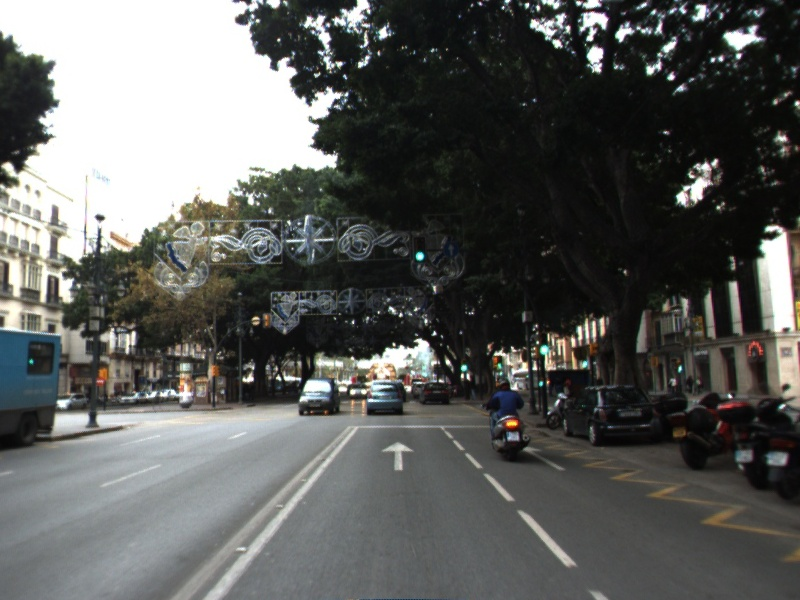STRAIGHT: (519, 445, 568, 473), (379, 440, 417, 473)
